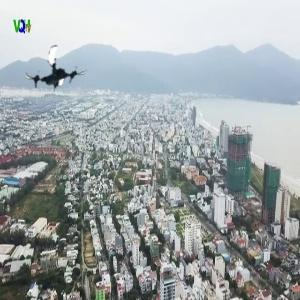drone: (27, 43, 87, 103)
